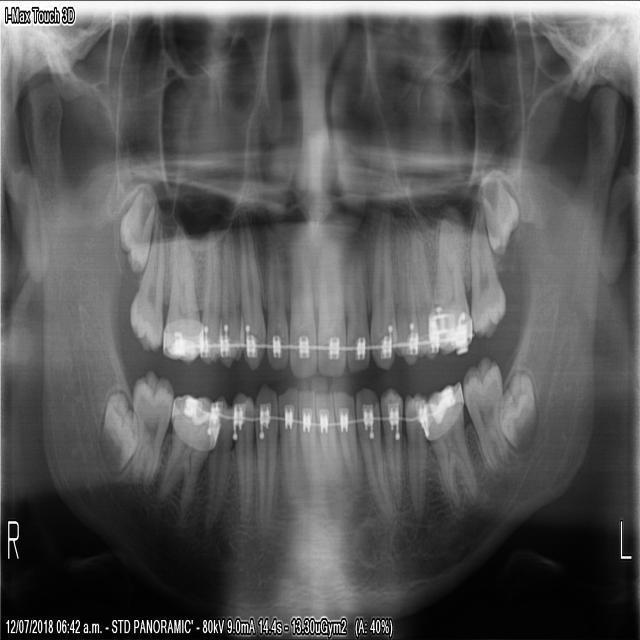LCD: (354, 380, 397, 522)
LCU: (369, 219, 396, 369)
LID: (333, 383, 367, 495), (316, 390, 351, 490)
LIU: (313, 230, 346, 377), (345, 239, 370, 378)
LMD: (414, 375, 479, 517), (460, 350, 516, 474), (498, 370, 538, 447)
LMU: (432, 218, 474, 368), (467, 207, 508, 342), (479, 163, 525, 262)
LPMD: (379, 385, 406, 510), (403, 393, 427, 522)
LPMU: (395, 219, 422, 365), (414, 220, 440, 360)
RCD: (253, 383, 279, 530)
RCU: (237, 227, 266, 368)
RID: (277, 383, 299, 507), (298, 389, 322, 494)
RIU: (288, 235, 318, 377), (265, 235, 288, 374)
RMD: (156, 383, 227, 528), (128, 370, 180, 489), (91, 384, 140, 478)
RMU: (161, 233, 201, 364), (128, 217, 165, 352), (112, 180, 156, 280)
RPMD: (201, 399, 245, 528), (234, 390, 252, 528)
RPMU: (219, 227, 242, 367), (198, 229, 220, 359)
